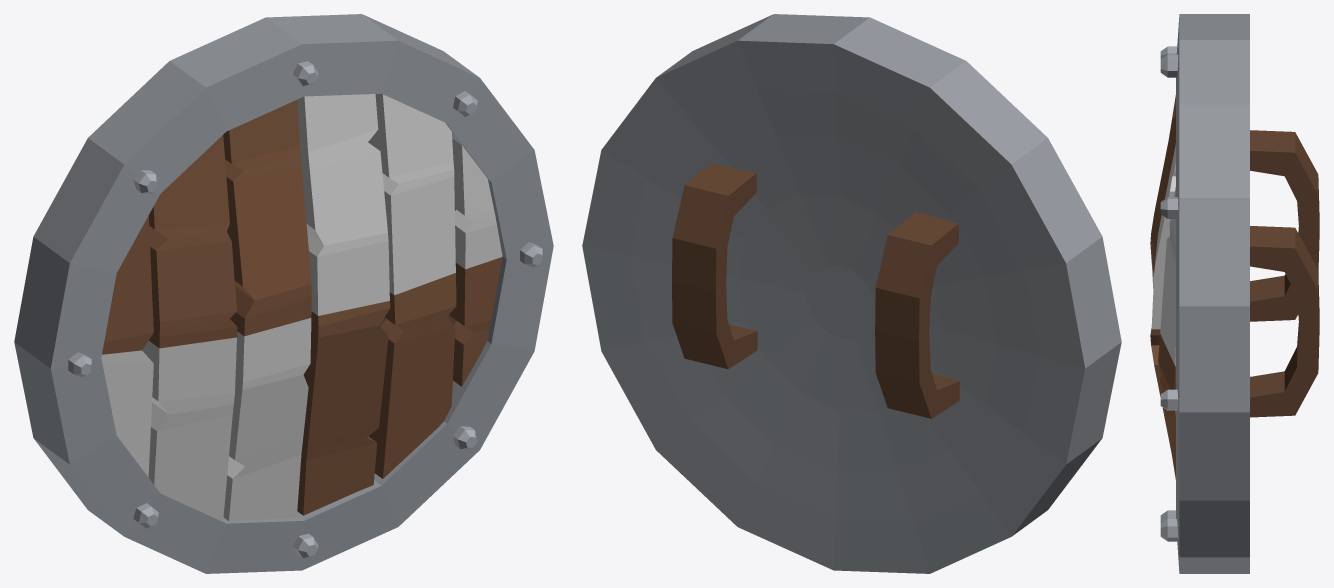
File: Shield Round.glb
3 renders of one model, left to right at view 1: azimuth 30°, elevation 25°; view 2: azimuth 150°, elevation 25°; view 3: azimuth 270°, elevation 25°, orthographic. The views are drawn at different scales.
Visible parts, largest first — view 1: Shield_Round_2; view 2: Shield_Round_2; view 3: Shield_Round_2.
Part boxes in pixels (box(x1,y1,x2,y2)): Shield_Round_2: box(14, 14, 553, 573); Shield_Round_2: box(582, 14, 1121, 573); Shield_Round_2: box(1150, 14, 1319, 573).
Size of the model in its own units: 2 by 2 by 0.6037.
